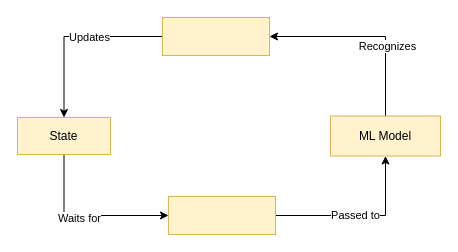
The diagram is 458 pixels wide and 252 high, and some of its shapes have lost their labels. The box of each missing label's shape, as (x1, y1, x2, y2) in pixels:
FA Element: (162, 16, 270, 56)
Stroke: (168, 196, 276, 234)
